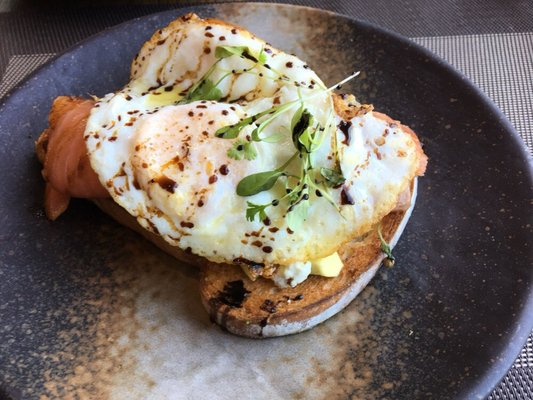soup: (34, 8, 425, 340)
